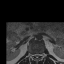CCS_normal: (36, 51, 38, 59)
LFS_normal: (40, 52, 42, 57)
LLS_normal: (38, 51, 40, 58)
RFS_normal: (32, 52, 34, 58)
RLS_normal: (34, 52, 36, 58)
